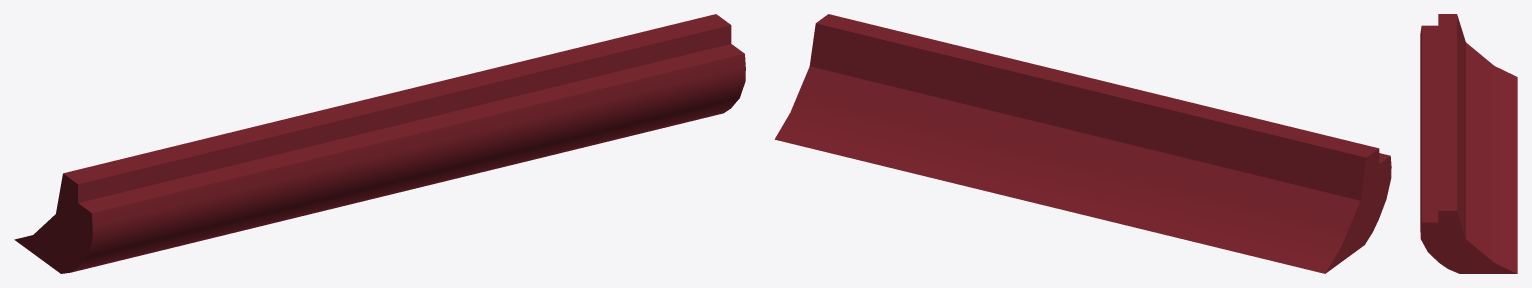
Rendered from BRoofPanelTrim_A.fbx.
3 views of the same model, side by side, from view 1: azimuth 30°, elevation 25°; view 2: azimuth 150°, elevation 25°; view 3: azimuth 270°, elevation 25° (orthographic). The views are drawn at different scales.
Parts seen in each view (by area): view 1: BRoofPannelTrim_A; view 2: BRoofPannelTrim_A; view 3: BRoofPannelTrim_A.
Boxes of the visible parts, x1,y1,x2,y2 form: BRoofPannelTrim_A: (14,14,745,273); BRoofPannelTrim_A: (774,14,1391,273); BRoofPannelTrim_A: (1420,14,1517,273).
Size of the model in its own units: 800 by 119 by 167.
